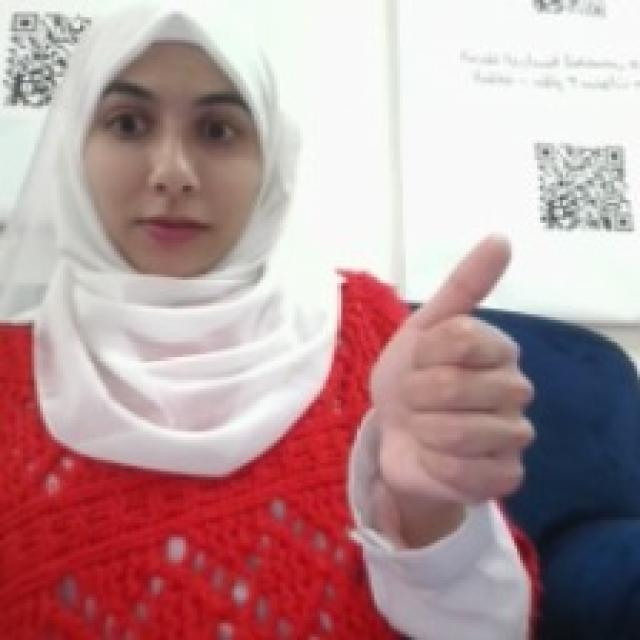fine: (360, 223, 543, 531)
